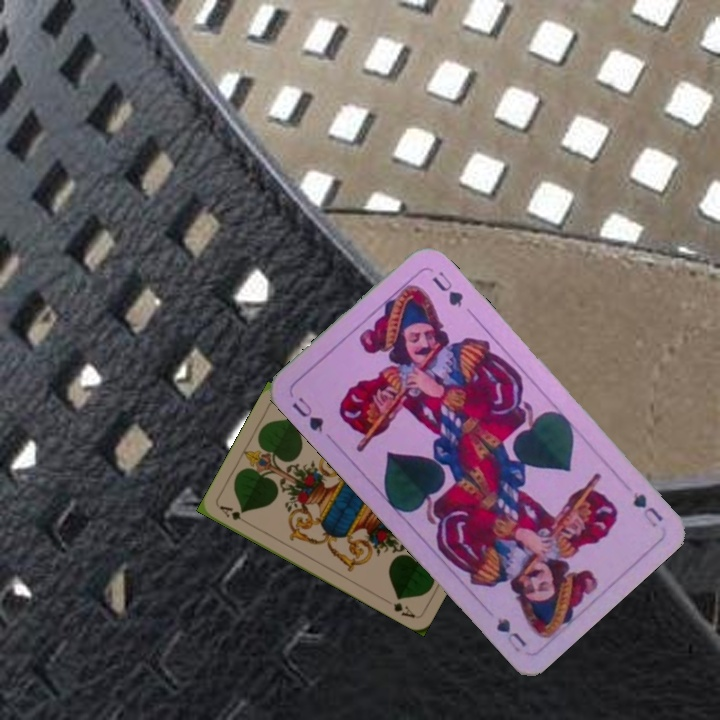GA: (216, 501, 252, 526)
GU: (288, 392, 326, 435), (629, 487, 666, 531)
